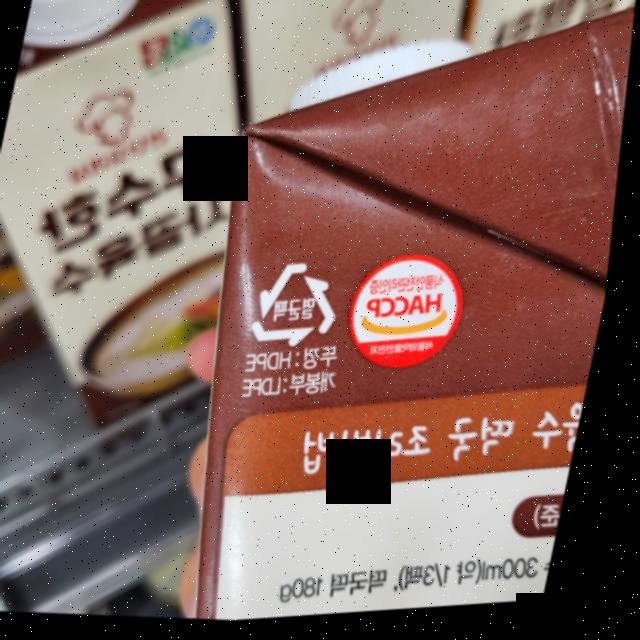SterilizedPack: (252, 257, 358, 358)
